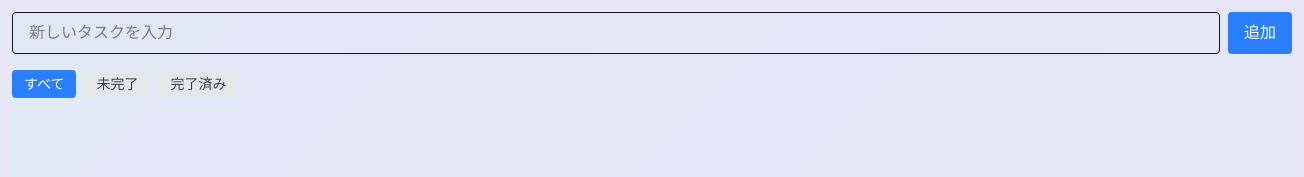
Test: TodoList › 新しいタスクを追加できる
This screenshot has width=1304, height=177.
Type "新しいタスク" into the field with placeholder "新しいタスクを入力" at (616, 33), box [12, 12, 1220, 54]
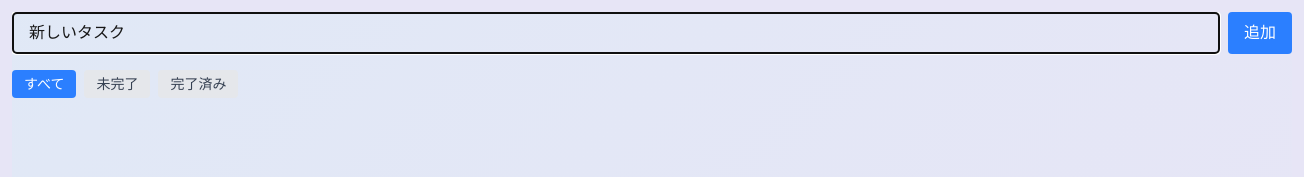
Click the button "追加" at (1260, 33), box [1228, 12, 1292, 54]
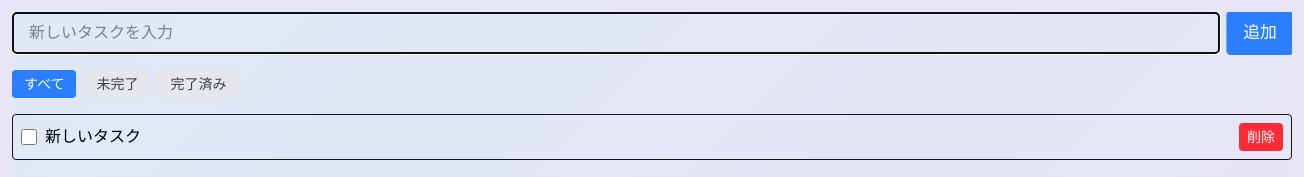
Now the text "新しいタスク" is shown, box [45, 125, 141, 149]
